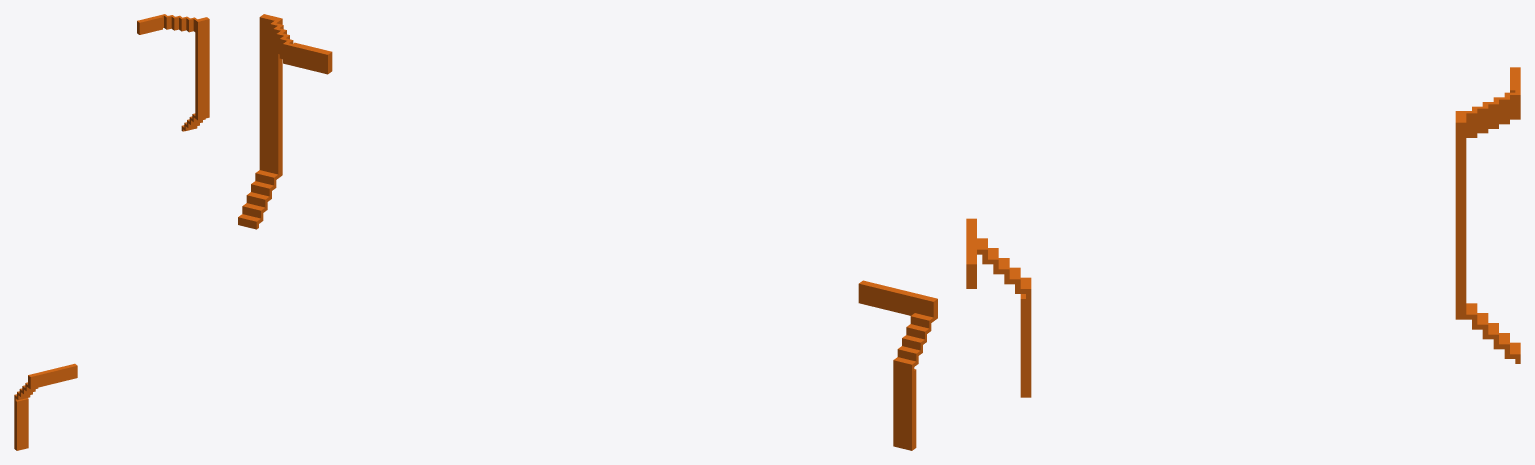
The model's file is stage2-4.fbx.
3 views of the same model, side by side, from view 1: azimuth 30°, elevation 25°; view 2: azimuth 150°, elevation 25°; view 3: azimuth 270°, elevation 25° (orthographic). The views are drawn at different scales.
Parts seen in each view (by area): view 1: passage3; view 2: passage3; view 3: passage3.
Boxes of the visible parts, box(x1,y1,x2,y2) form: passage3: box(14, 14, 209, 450); passage3: box(238, 14, 937, 450); passage3: box(966, 67, 1520, 397).
Bounding box in the file's own units: 1280 × 1132 × 1020.
